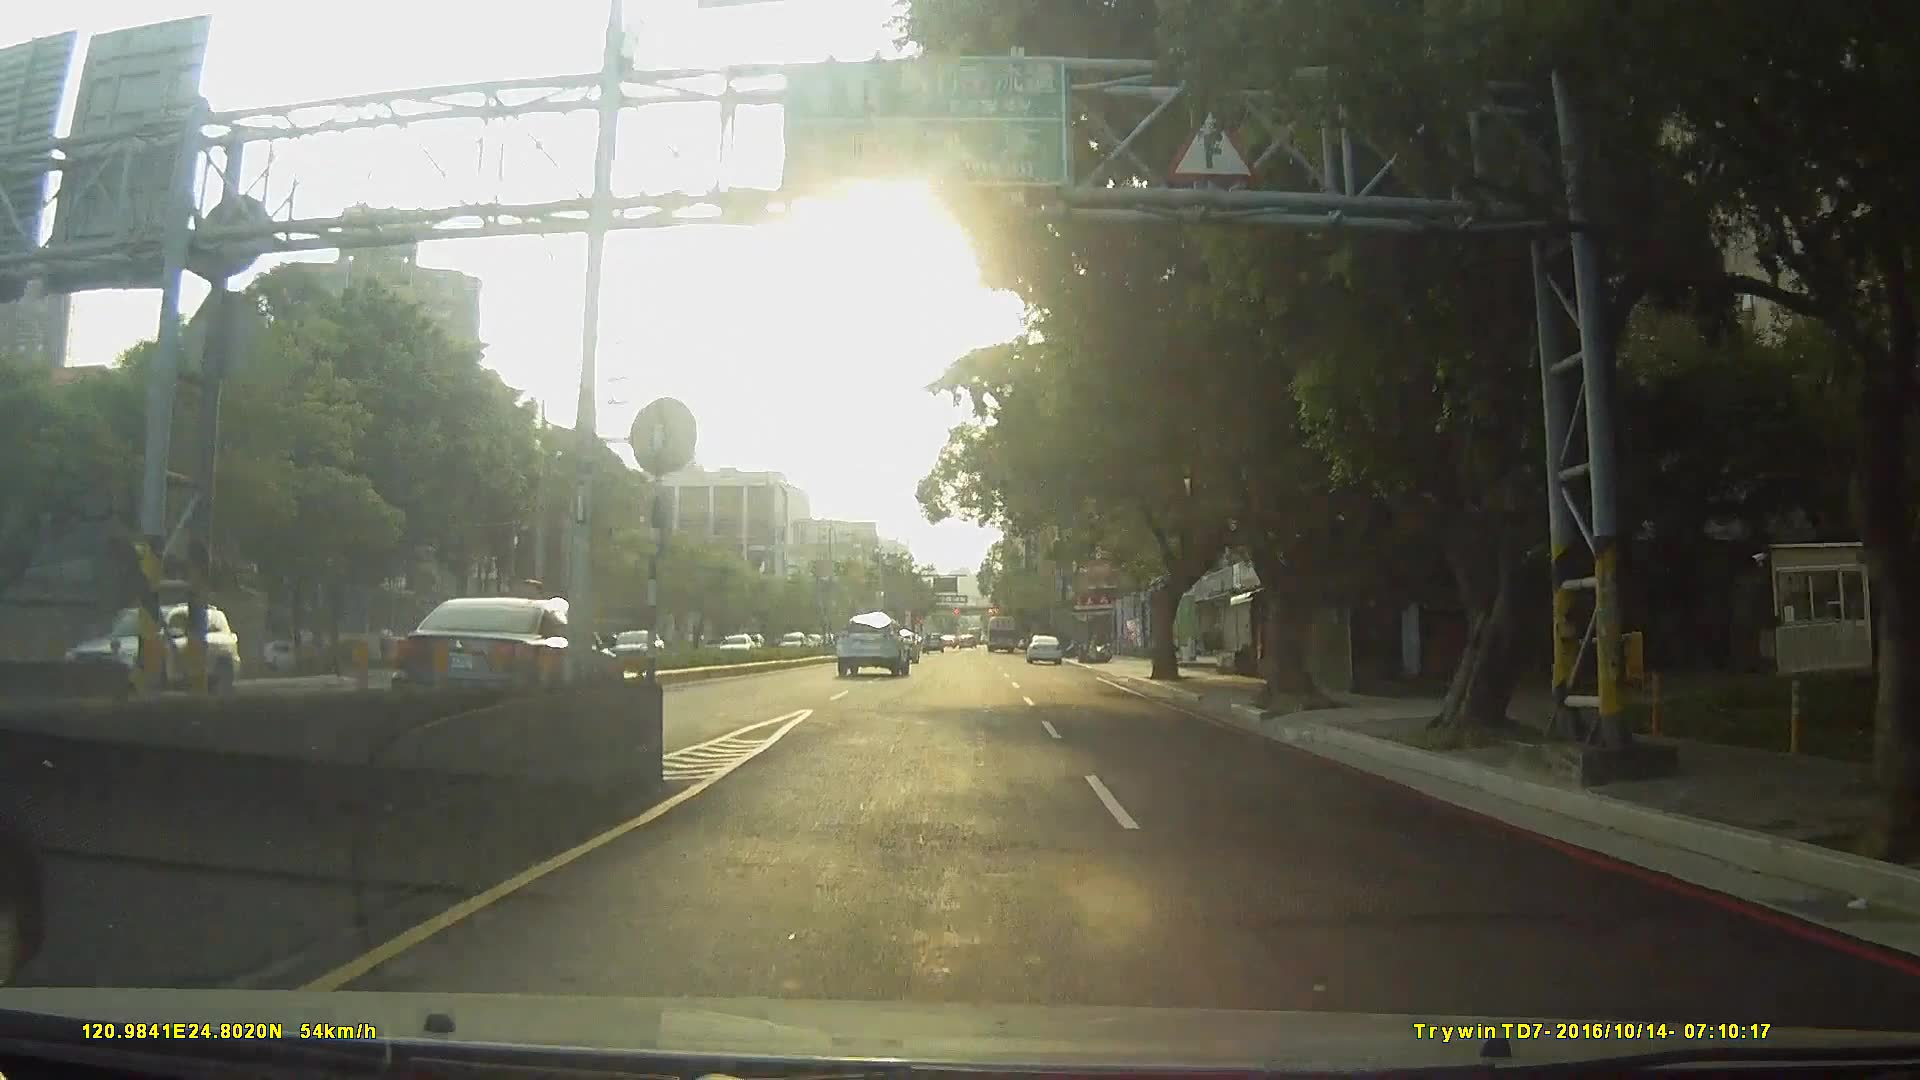pedestrian: (379, 623, 399, 676)
vehicle: (389, 594, 626, 726), (834, 611, 911, 678), (1024, 631, 1064, 664), (985, 613, 1017, 653)
